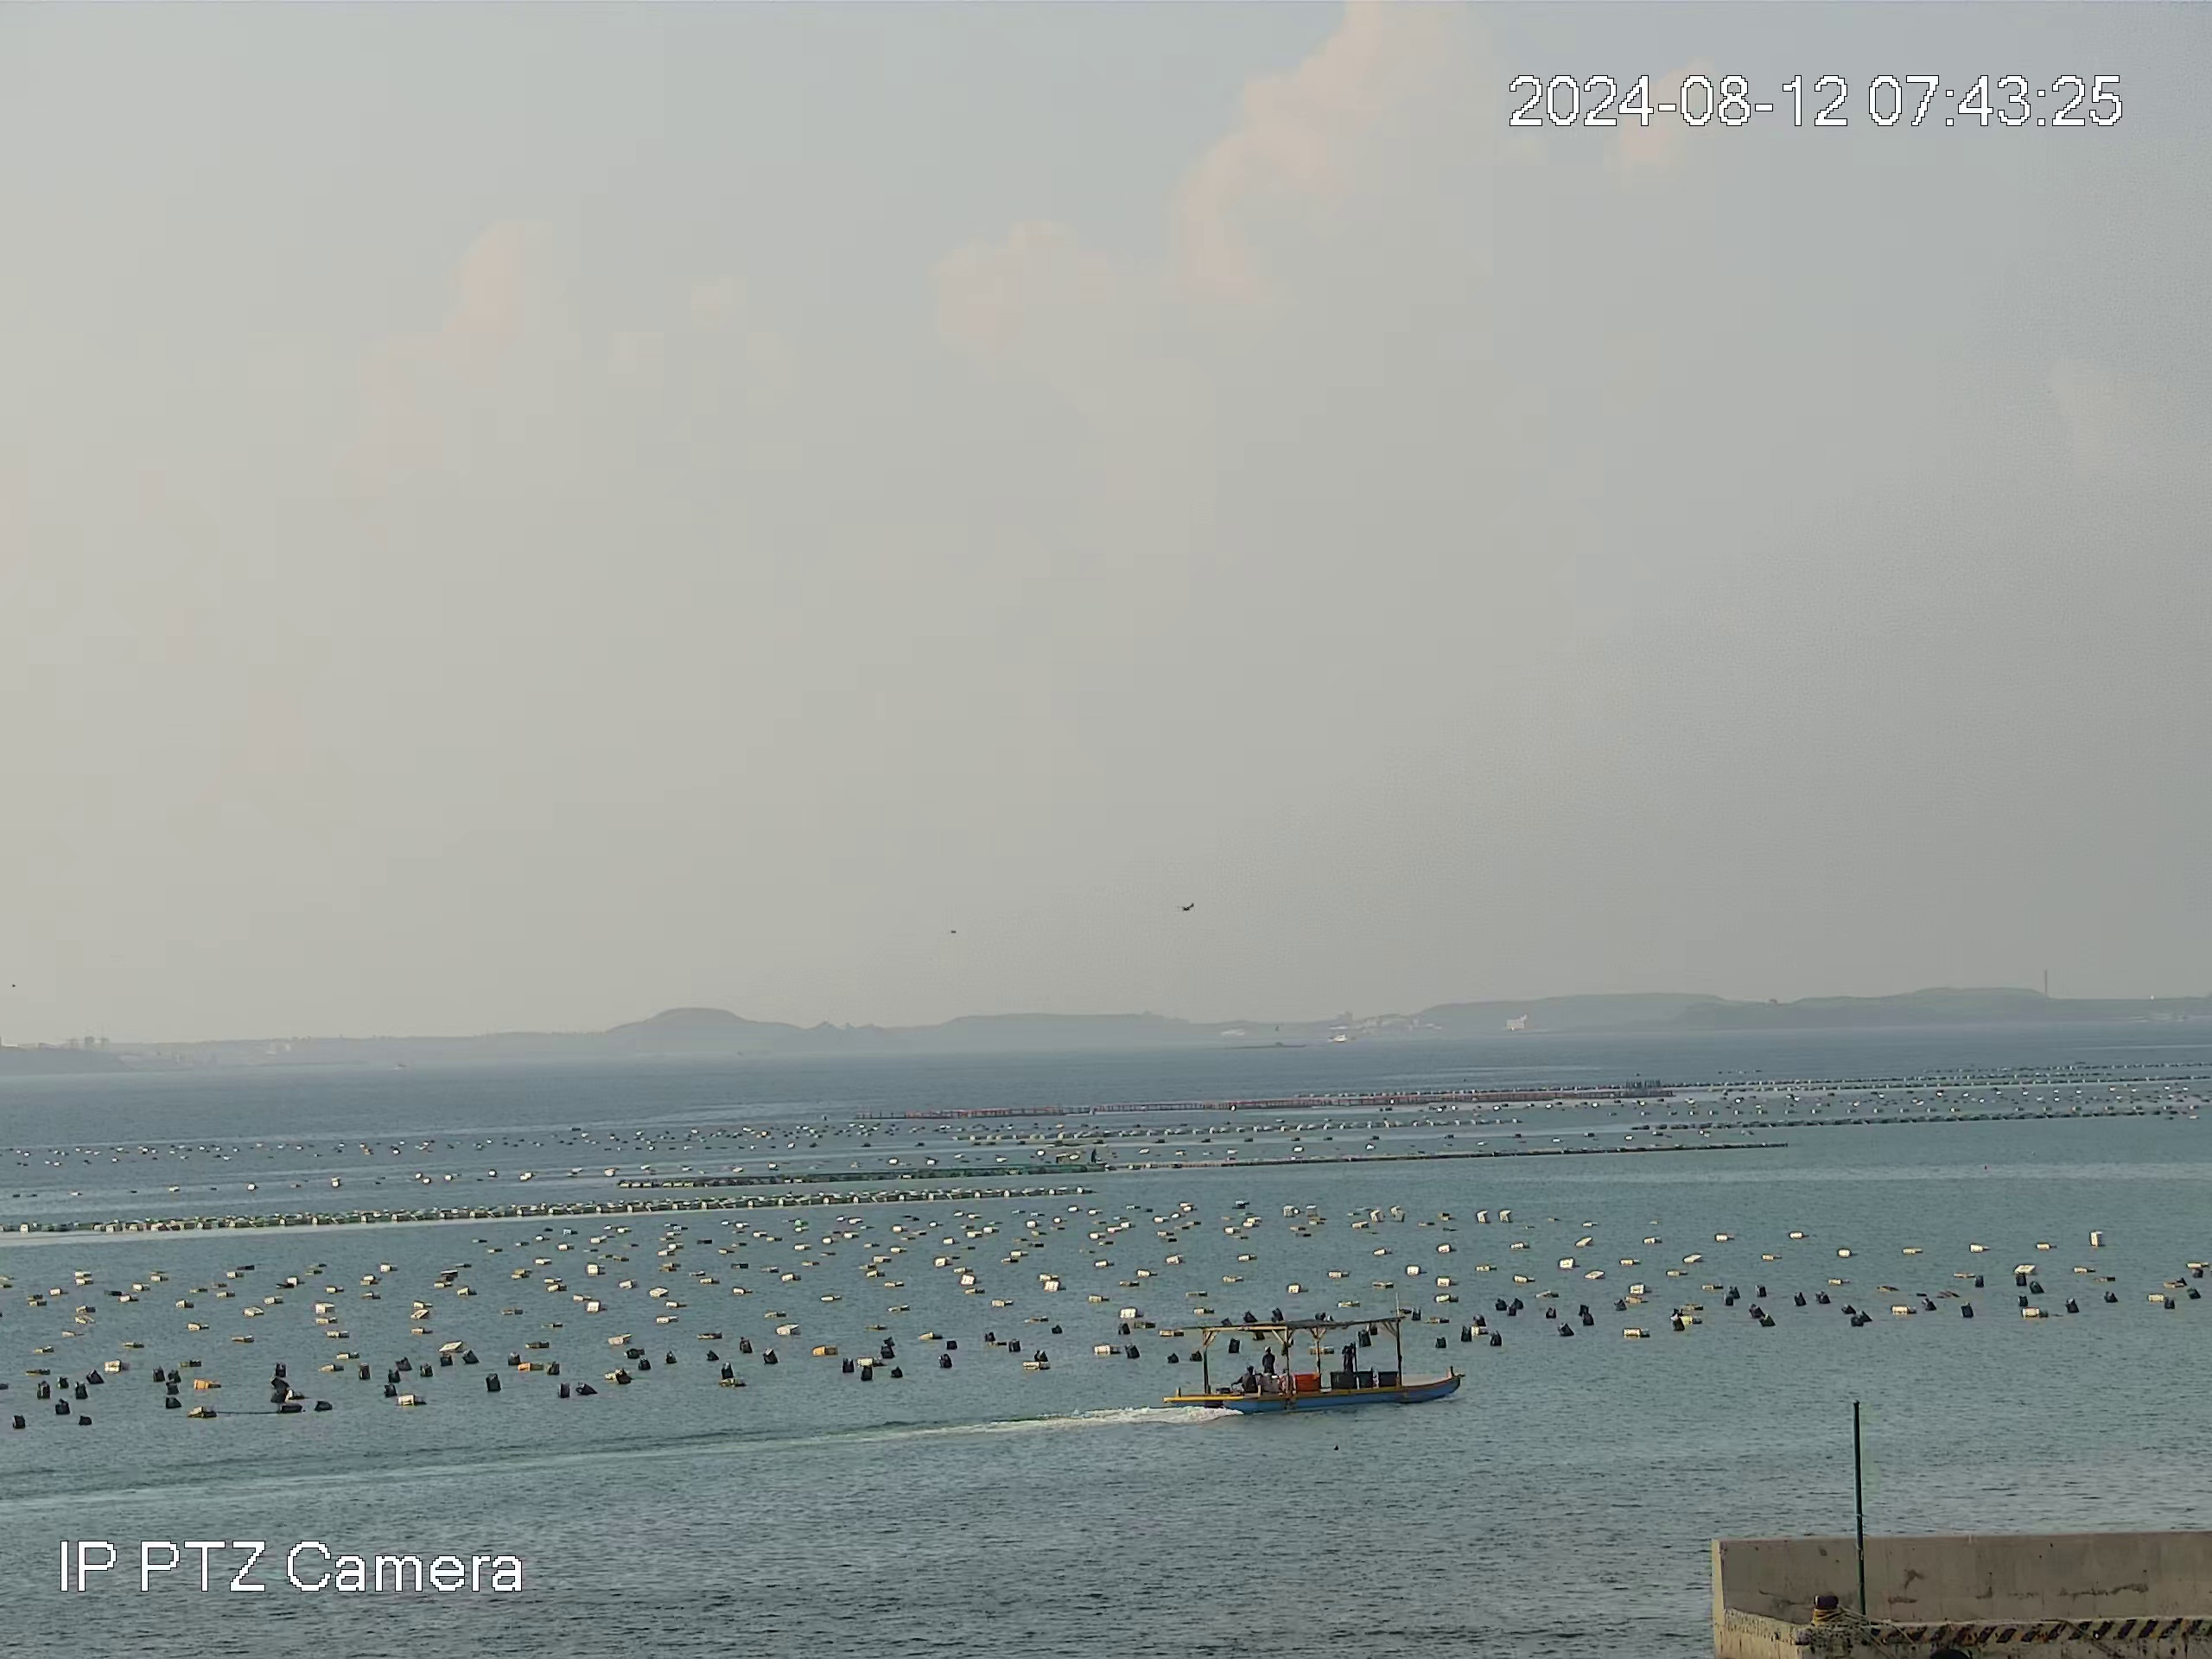boat: (1166, 1313, 1477, 1408)
